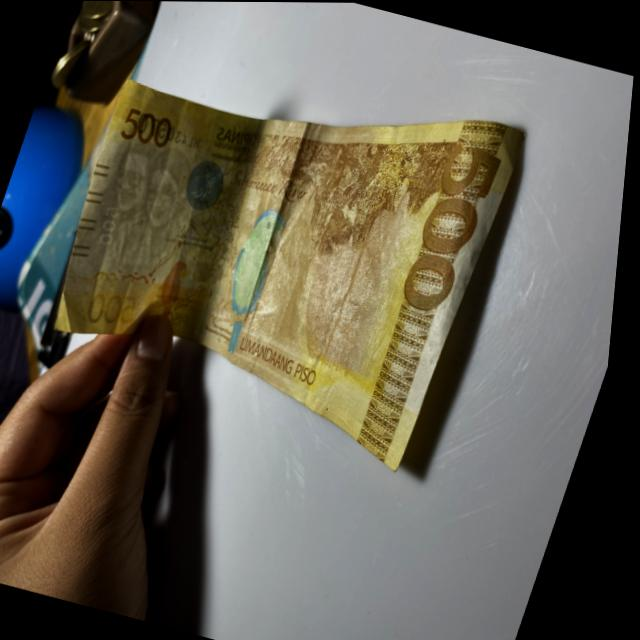500_big_parrot: (206, 196, 304, 357)
500_parrot_watermark: (144, 249, 204, 339)
value_watermark: (92, 200, 132, 251)
watermark: (79, 138, 203, 284)
